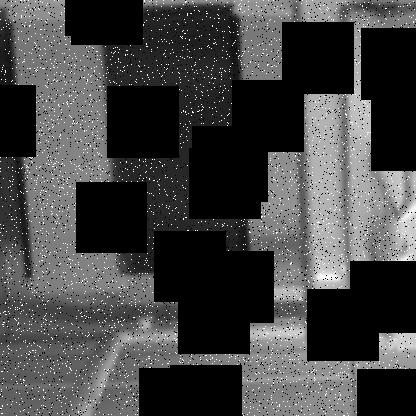Porte: (99, 14, 254, 276)
